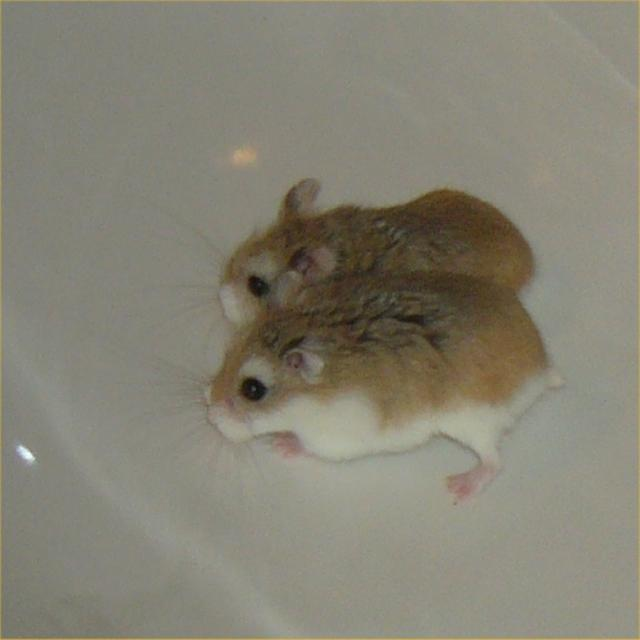rat: (148, 276, 566, 500), (145, 189, 535, 355)
